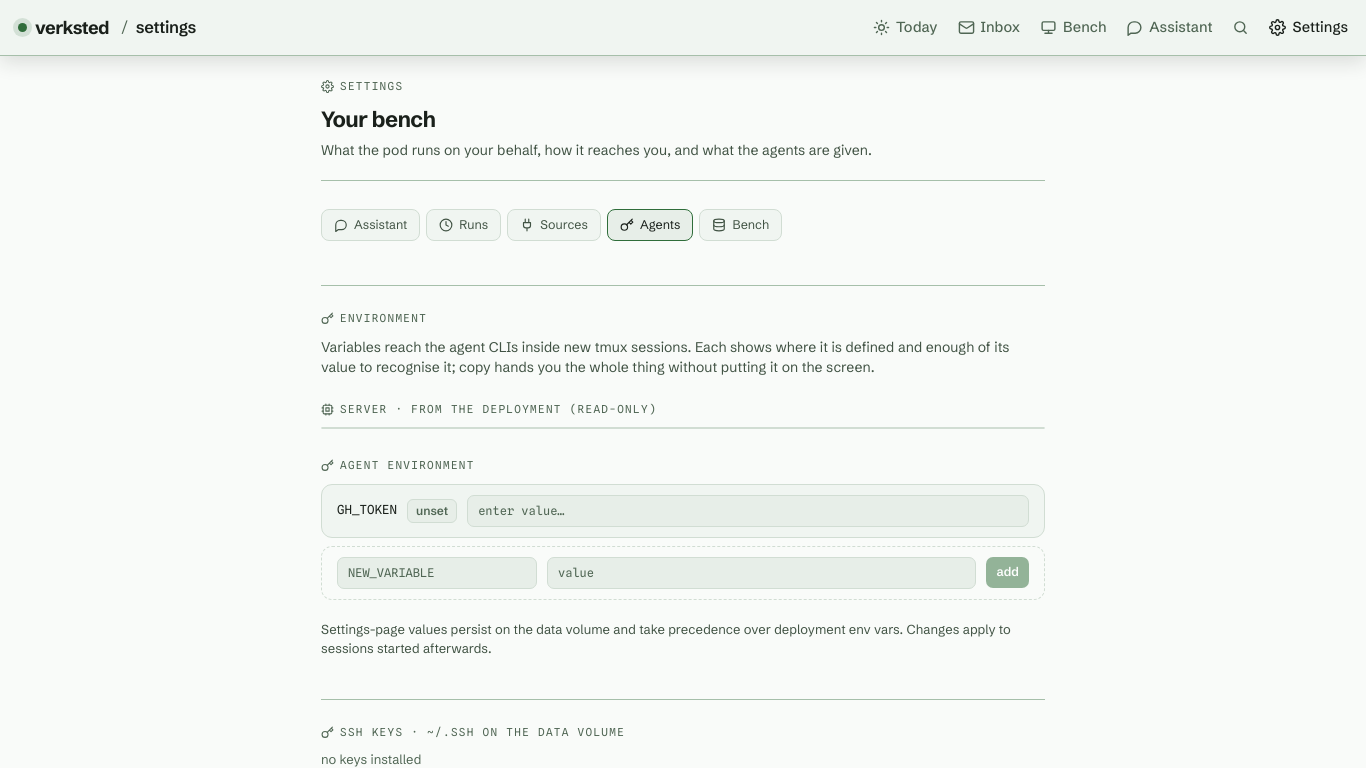
Test case: a setting the pod would not store › keeps what was typed
In the field with placeholder "enter value…": [748, 511] box [467,495,1029,527], type "ghp_secret"
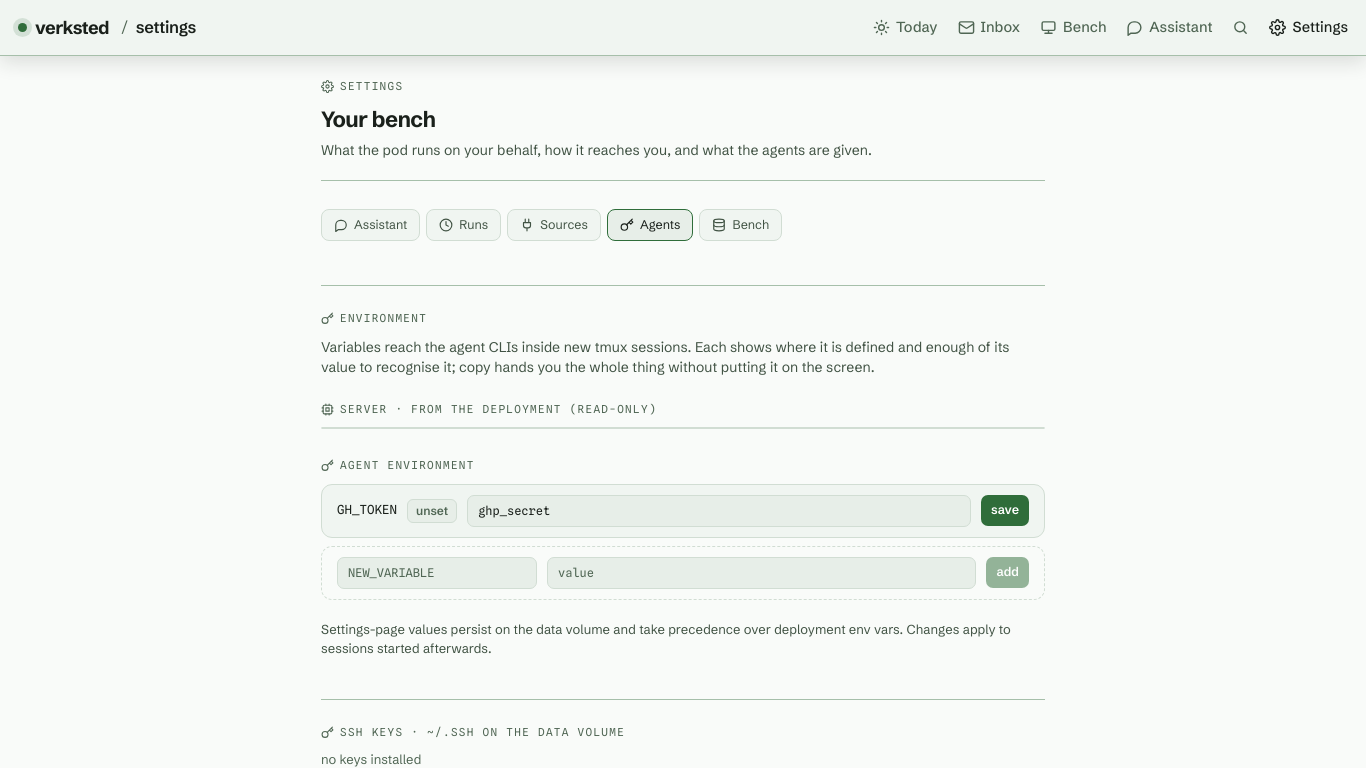
Click the button "save": [1005, 511] box [981,495,1029,526]
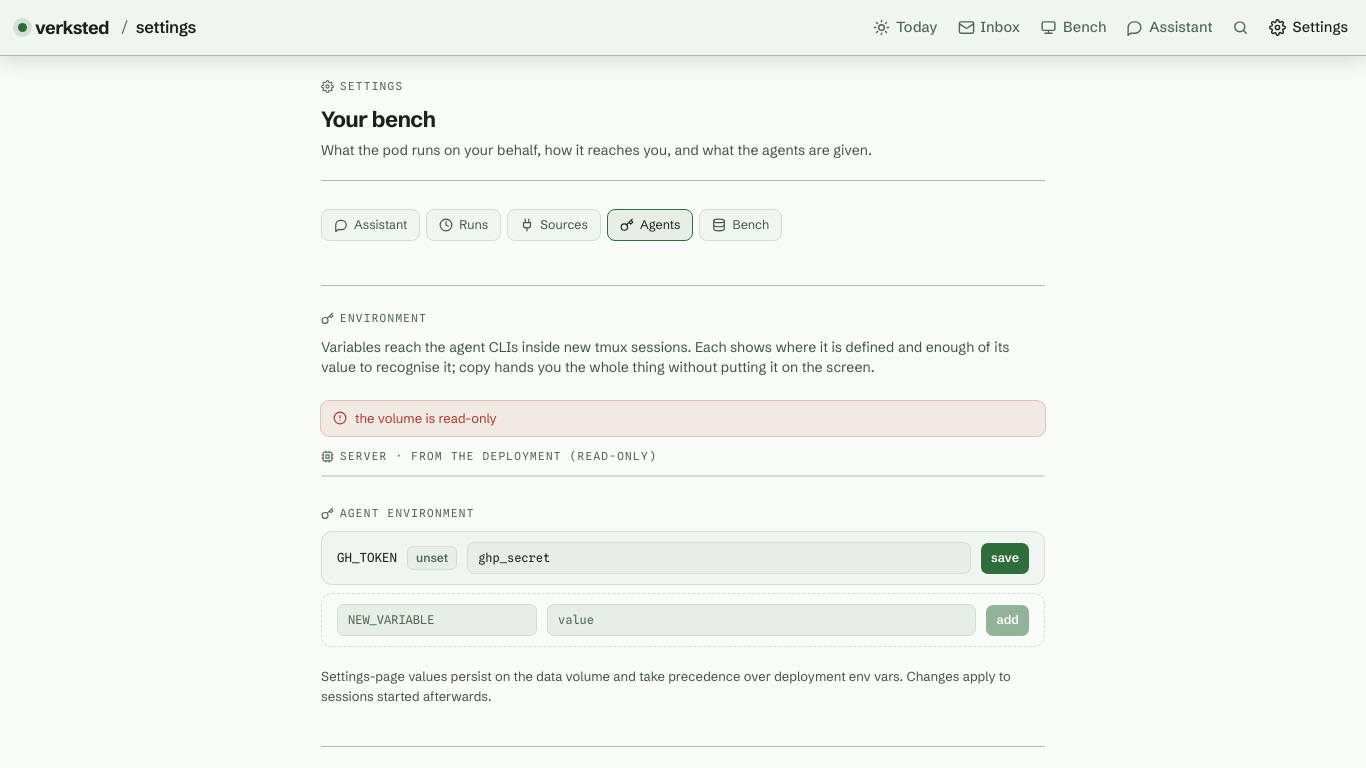
Now the text "the volume is read-only" is shown, box [355,410,497,426]
